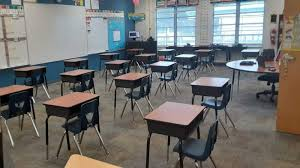desk: (143, 100, 207, 167), (41, 90, 100, 161), (110, 69, 152, 120), (0, 81, 36, 134), (148, 59, 177, 96), (12, 65, 48, 93), (58, 67, 95, 92), (173, 52, 197, 80), (193, 46, 215, 71), (105, 58, 129, 72), (63, 55, 87, 67), (135, 51, 156, 62), (95, 50, 119, 59), (157, 48, 174, 55)
